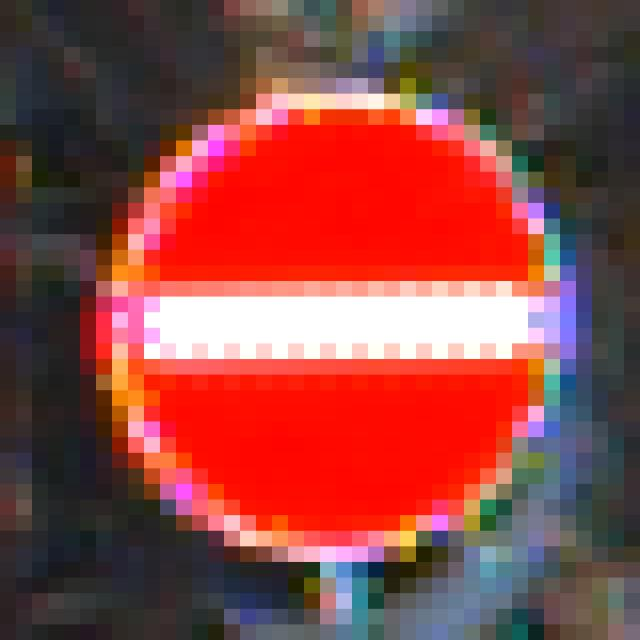No Entry: (97, 95, 561, 563)
